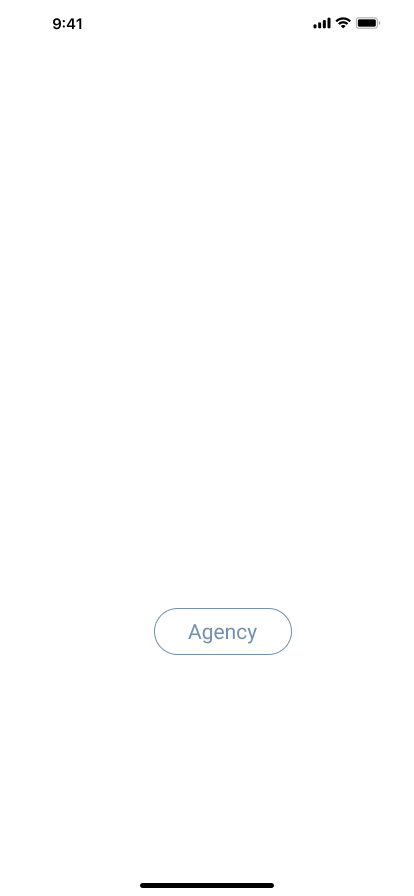Buttons: (154, 608, 300, 655)
Home Indicator: (0, 862, 414, 896)
Status Bar: (0, 0, 414, 44)
